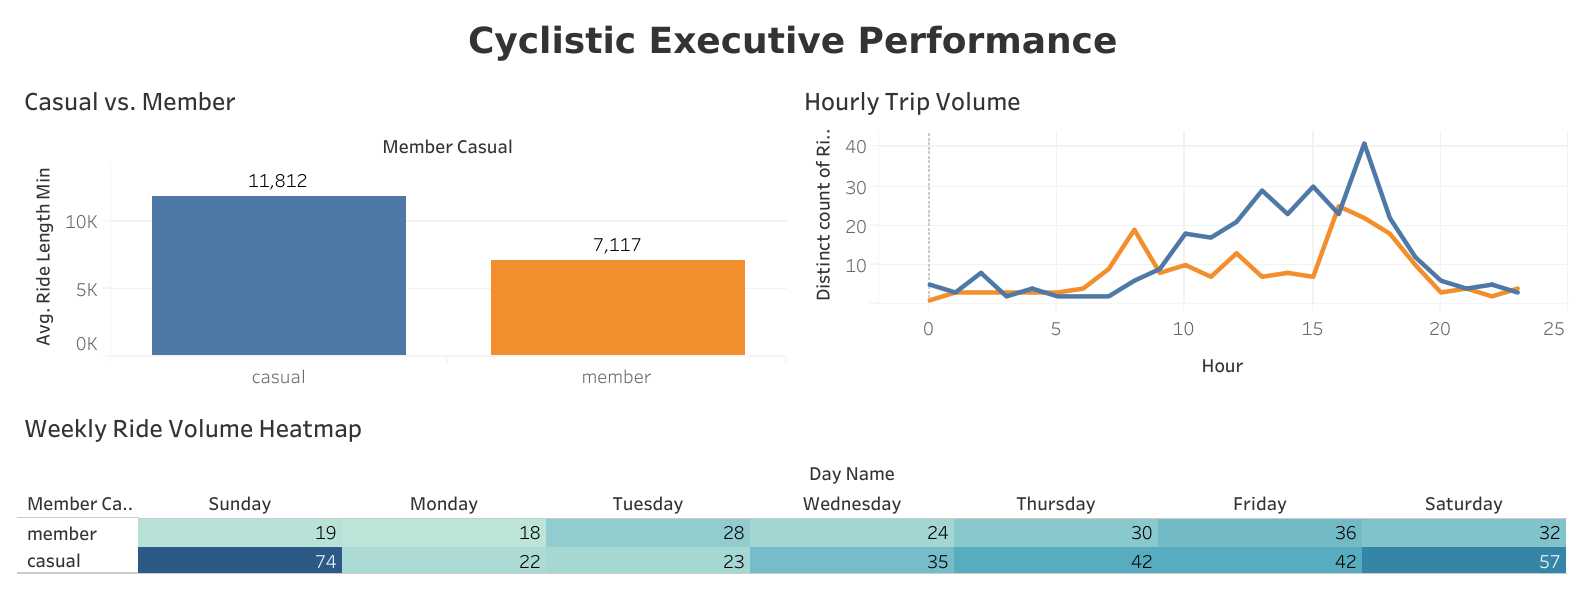

The dashboard page shown, as its layout file describes it:
{"tool":"tableau","page":{"name":"Dashboard 1","canvas":[1000,1000],"units":"permille","ordinal":0},"visuals":[{"type":"title","box":[7.3,20.2,985.4,93.7]},{"type":"worksheet","title":"Sheet 1","mark":"Automatic","rows":["ride_length_min"],"cols":["member_casual"],"box":[7.3,113.9,492.7,551.9]},{"type":"worksheet","title":"Sheet 2","mark":"Line","rows":["ride_id"],"cols":["hour"],"box":[500,113.9,492.7,551.9]},{"type":"worksheet","title":"Sheet 3","mark":"Square","rows":["member_casual"],"cols":["day_name"],"box":[7.3,665.8,985.4,313.9]}]}

Visuals, with their boxes on the dashboard's canvas, which has no fixed pixel size, in thousandths of its width and height (x1, y1, x2, y2). These are canvas units, not pixel positions in the 1584x591 screenshot, which may show the page scaled, cropped or inside an application window:
title: bbox=[7, 20, 993, 114]
"Sheet 1" worksheet: bbox=[7, 114, 500, 666]
"Sheet 2" worksheet (Line marks): bbox=[500, 114, 993, 666]
"Sheet 3" worksheet (Square marks): bbox=[7, 666, 993, 980]
